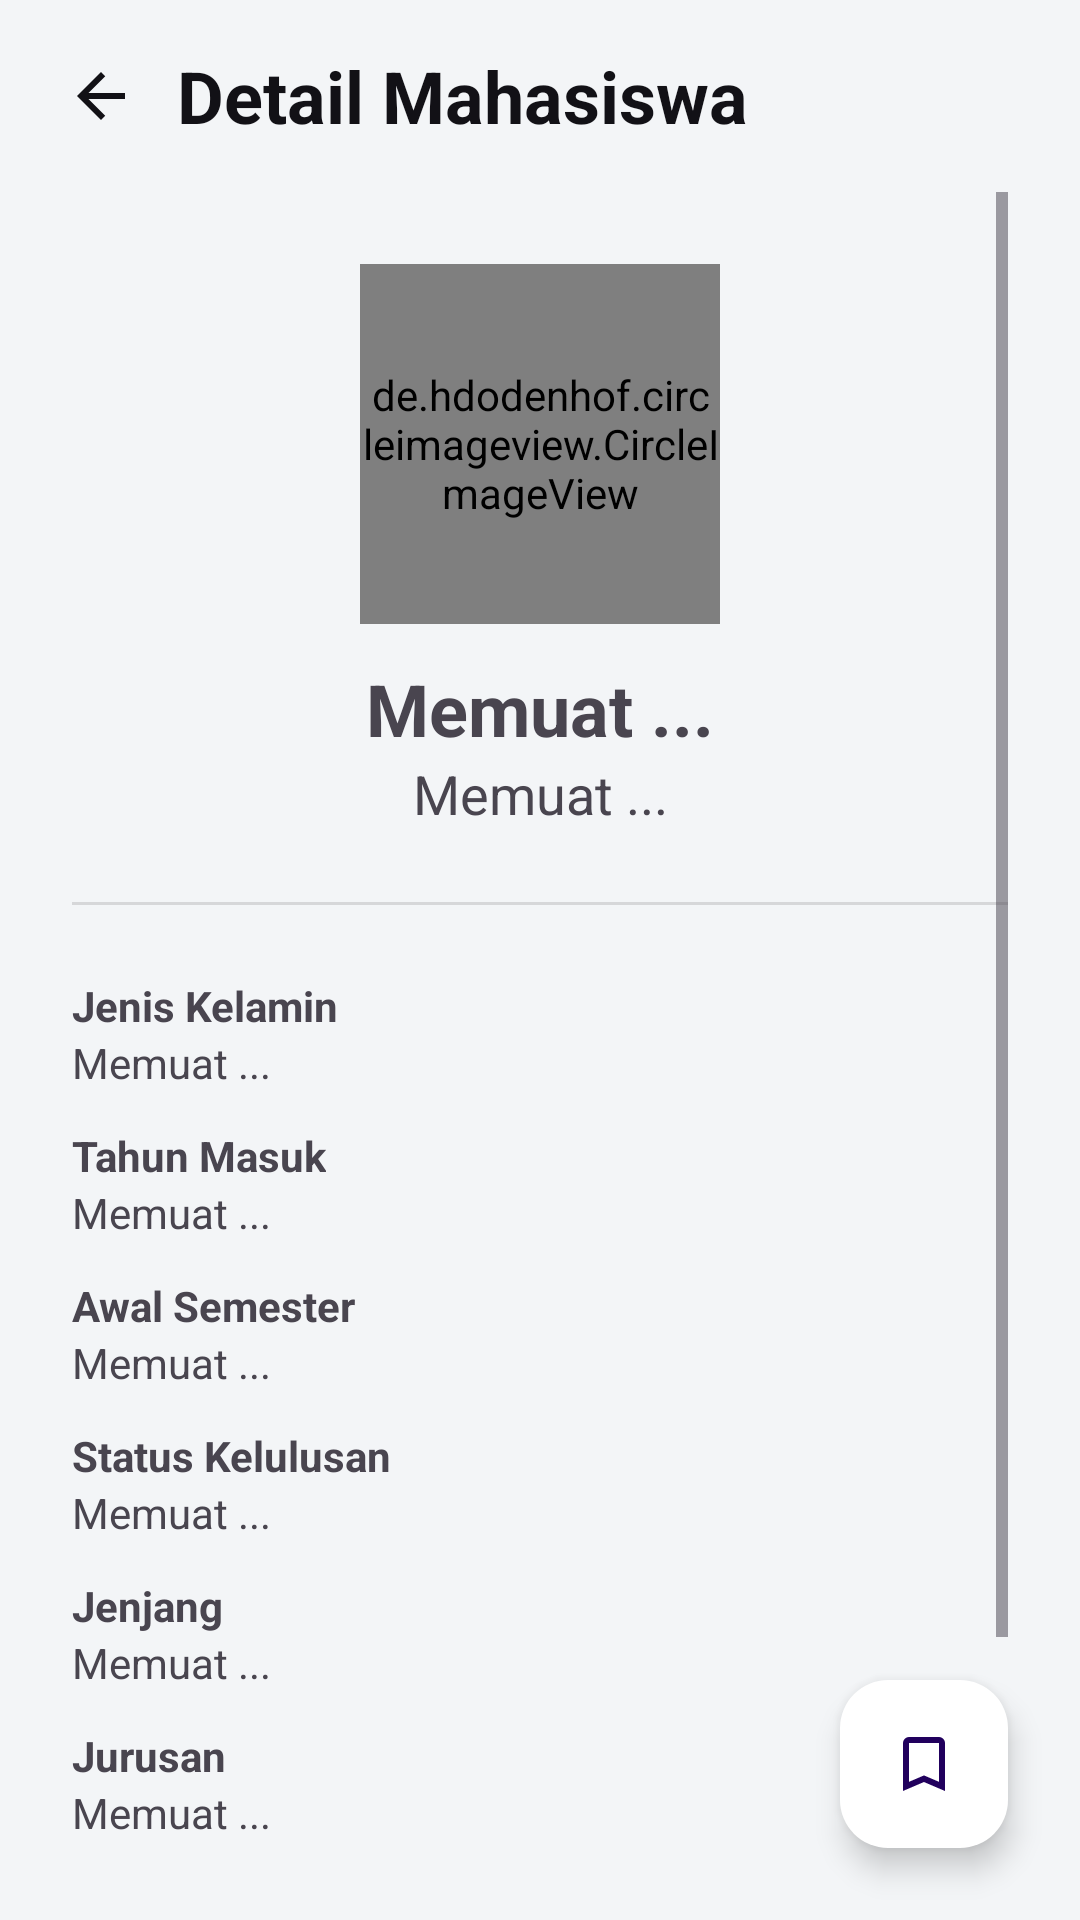

Icons on this 1080 x 1920 Android screen, each with its box as (left=x1, top=y1, right=x2, bottom=y2):
Favorit: (left=840, top=1680, right=1008, bottom=1848)
Kembali: (left=77, top=72, right=125, bottom=120)
